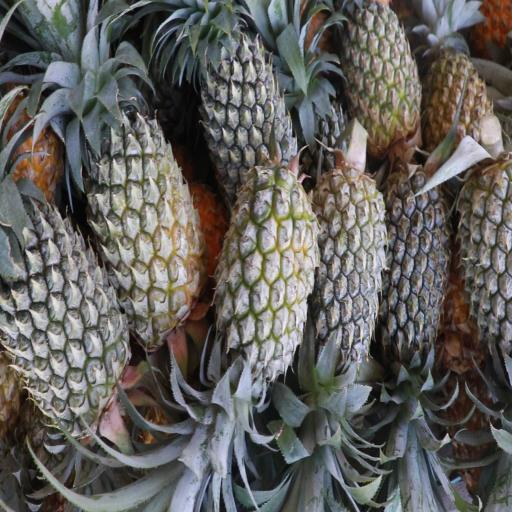------------------------------: (81, 96, 196, 325), (224, 172, 316, 372), (341, 0, 417, 146), (426, 40, 496, 171)
